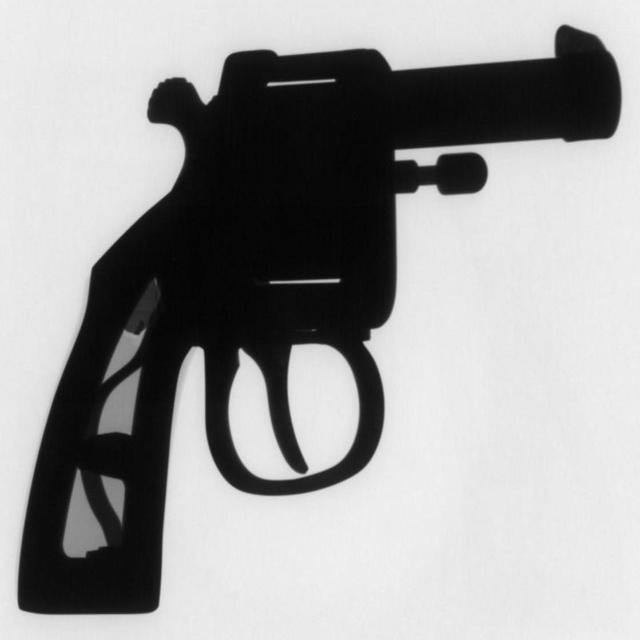gun: (16, 25, 624, 612)
